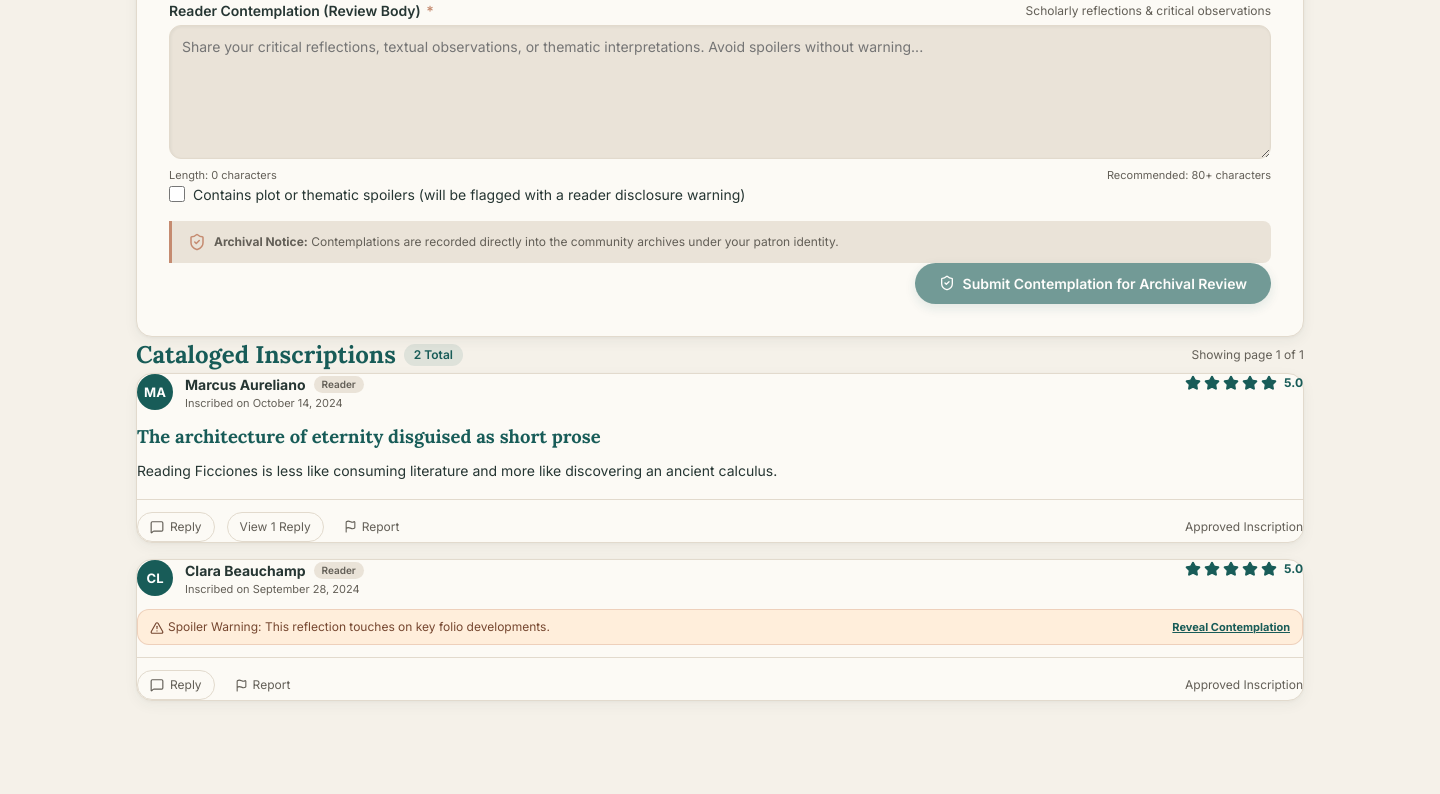
Test: BookReviewsPage › supports expanding replies, replying inline, and deleting own reply
Later steps or results of the test are not shown.
(page scrolled)
Click the button "View 1 Reply": (275, 527) [227,512,324,542]
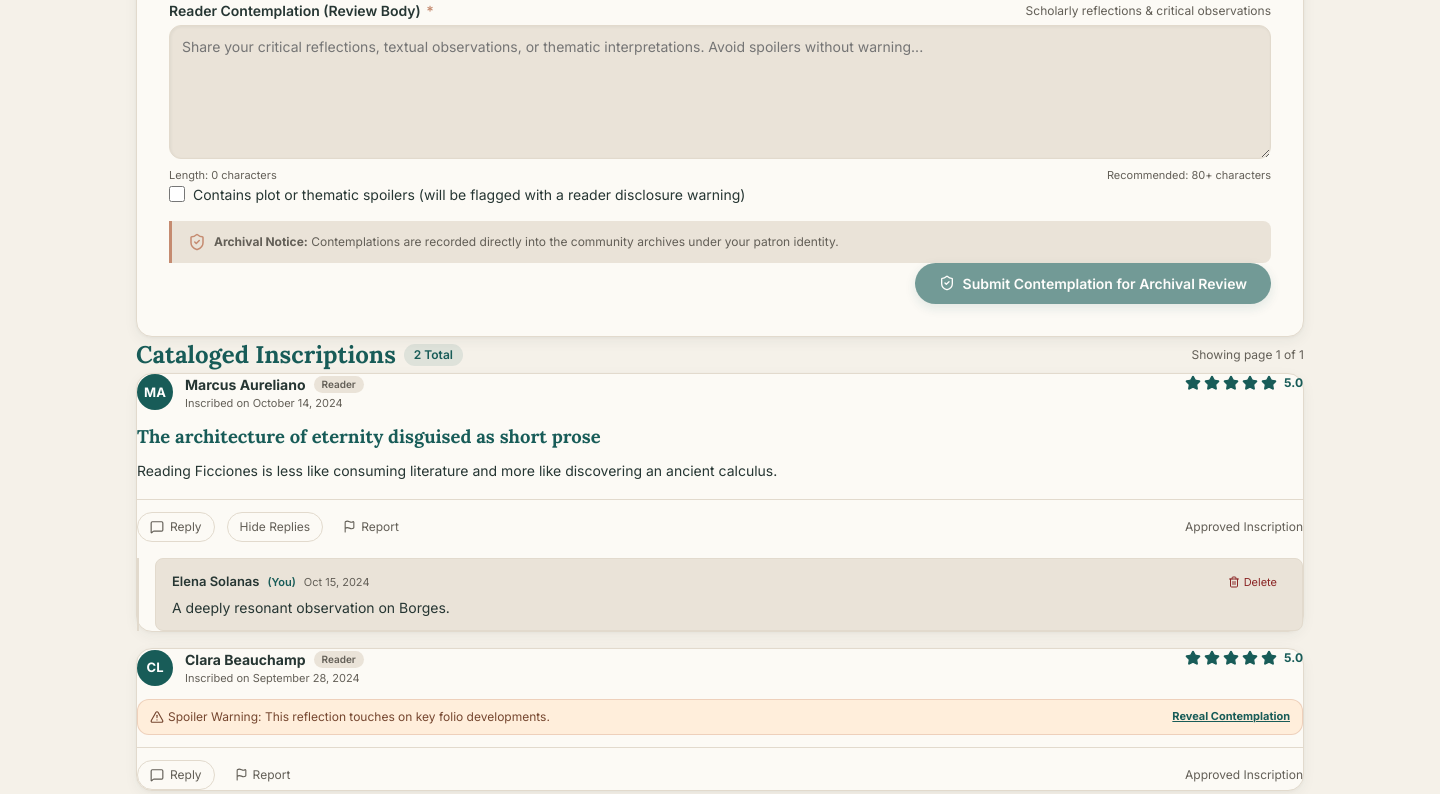
Now the element with test id "replies-thread-rev-01" is shown, box [137,558,1303,631]
Now the text "A deeply resonant observation on Borges." is shown, box [172,599,450,616]
Note: Click Reply button on review card
Click the button with aria-label "Reply to review by Marcus Aureliano": (176, 527) [137,512,215,542]
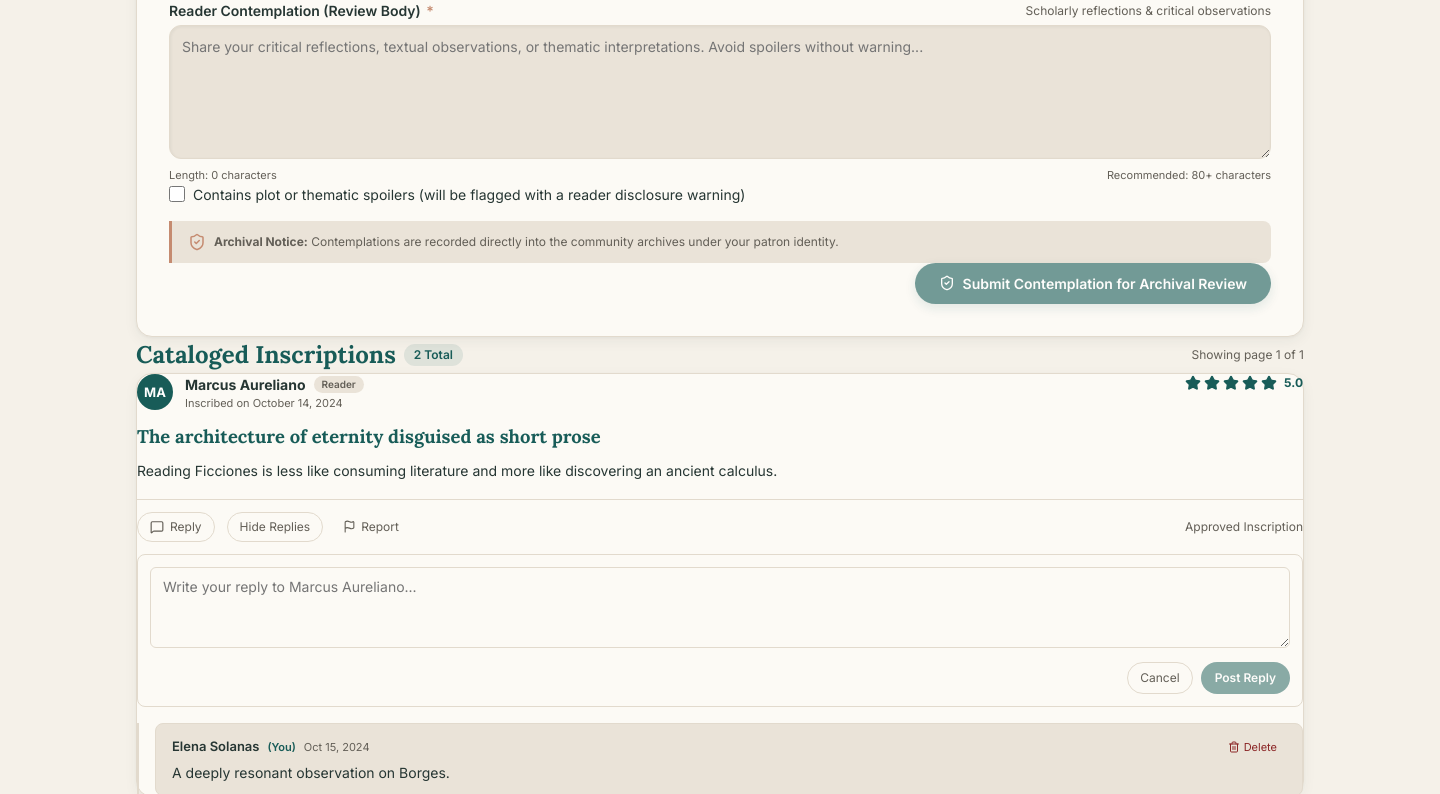
Now the element with test id "reply-composer-rev-01" is shown, box [137,554,1303,707]
Note: Type reply
In the text box named "Reply text": (720, 607) [150,567,1290,648], type "I wholeheartedly concur with Marcus on this analysis."
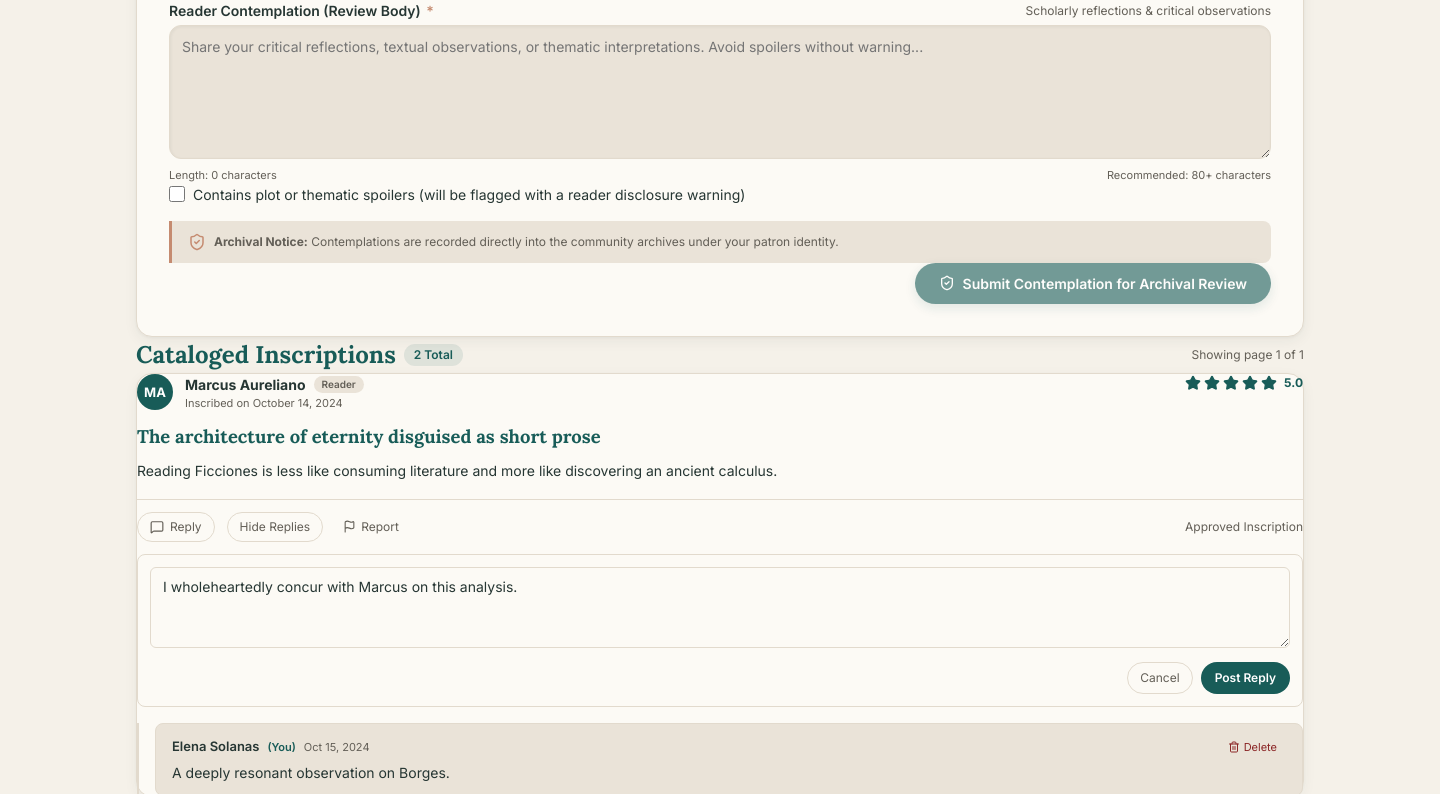
Note: Submit reply
Click the button "Post Reply": (1245, 678) [1201,662,1290,694]
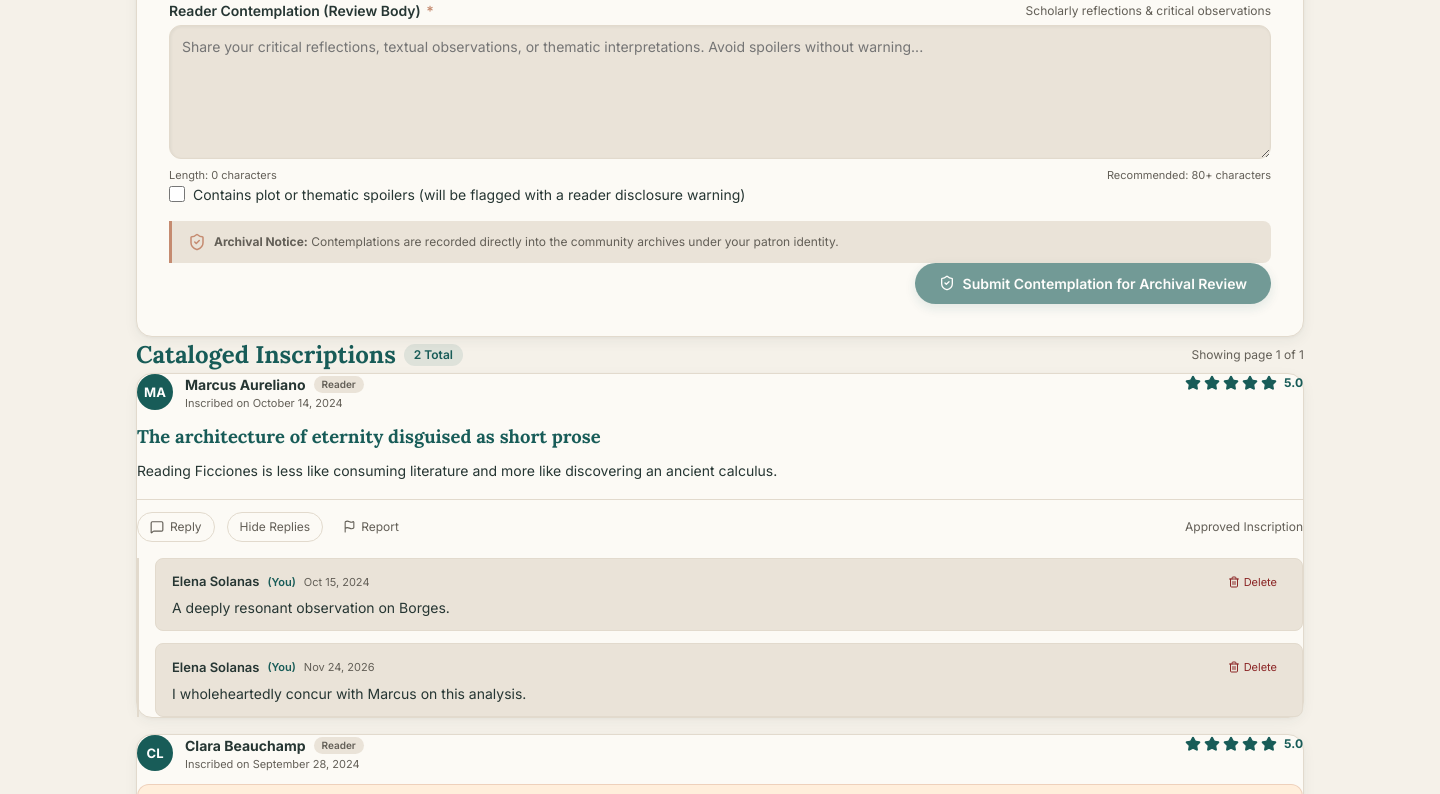
Now the text "I wholeheartedly concur with Marcus on this analysis." is shown, box [172,685,526,702]
Note: Delete own reply
Click the button "Delete" in the row of "Oct 15, 2024": (1252, 582) [1219,571,1286,593]
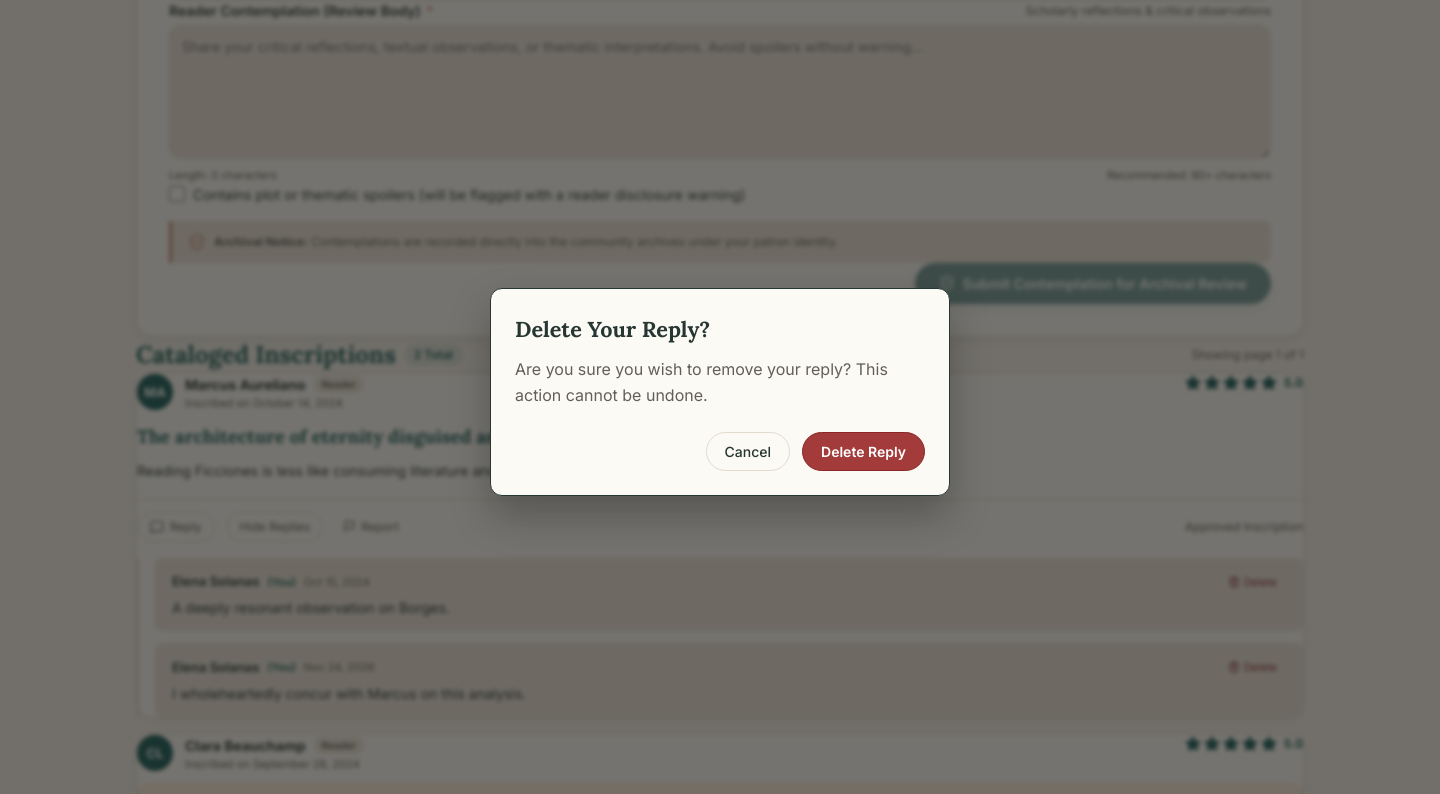
Now the heading "Delete Your Reply?" is shown, box [515,315,710,343]
